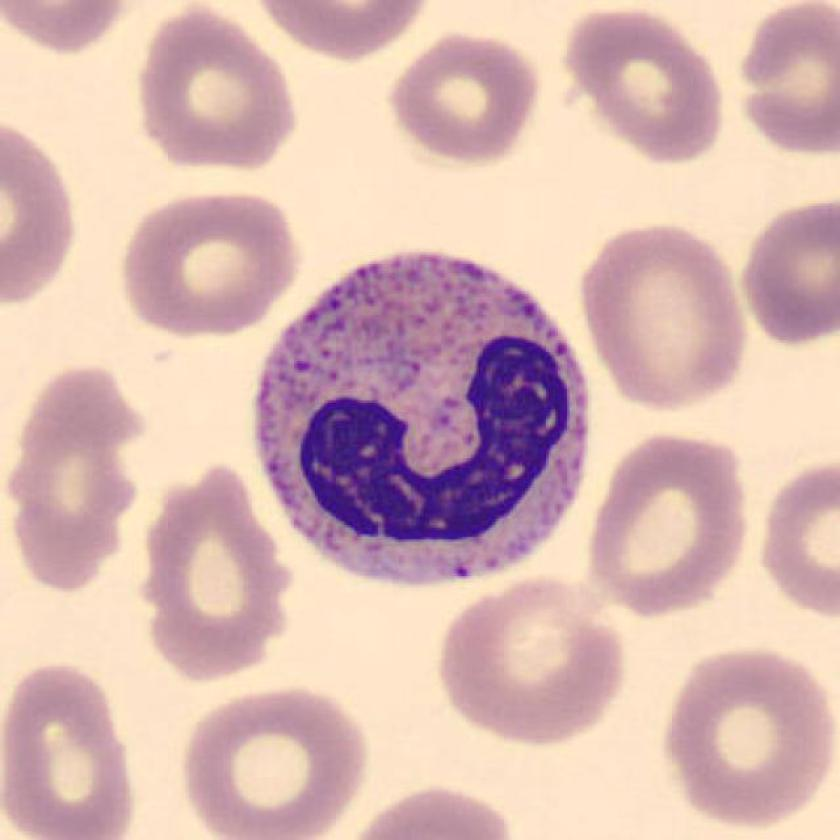neutrophil: (252, 254, 585, 585)
